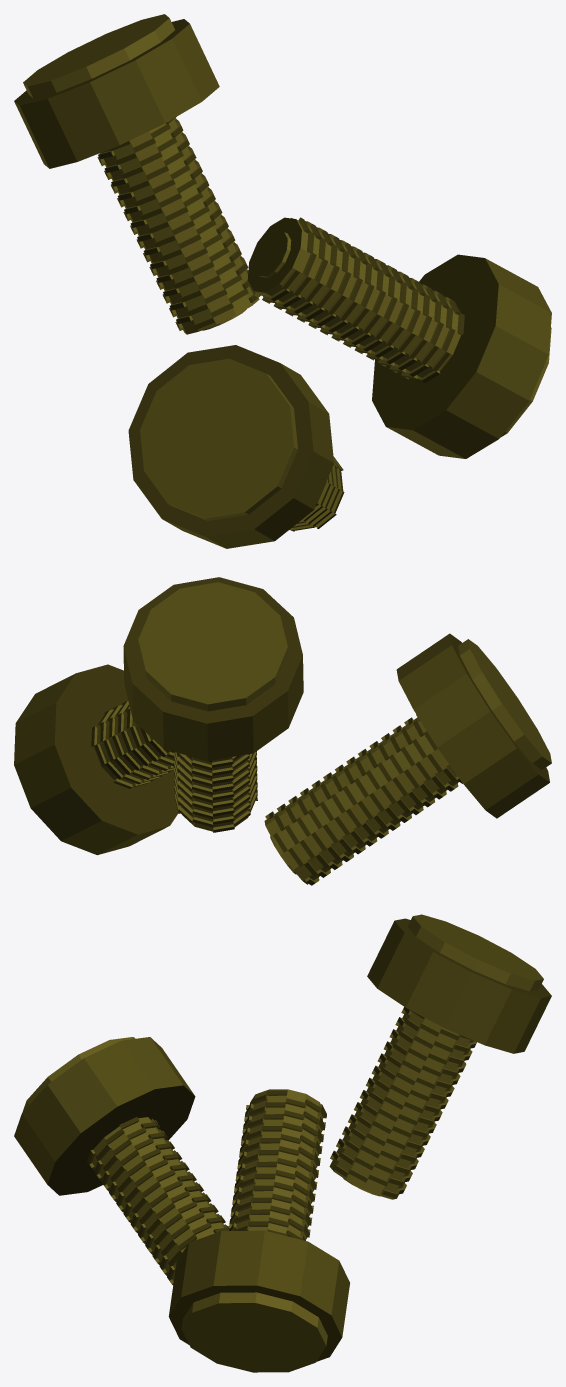
File: bolts 1.fbx
3 views of the same model, one above another, from view 1: azimuth 30°, elevation 25°; view 2: azimuth 150°, elevation 25°; view 3: azimuth 270°, elevation 25° (orthographic). The views are drawn at different scales.
Visible parts, largest first — view 1: pCylinder10; view 2: pCylinder10; view 3: pCylinder10.
Part boxes in pixels (box(x1,y1,x2,y2)): pCylinder10: box(14, 14, 551, 548); pCylinder10: box(14, 577, 551, 885); pCylinder10: box(14, 914, 551, 1372).
Size of the model in its own units: 98.35 by 82.13 by 107.
